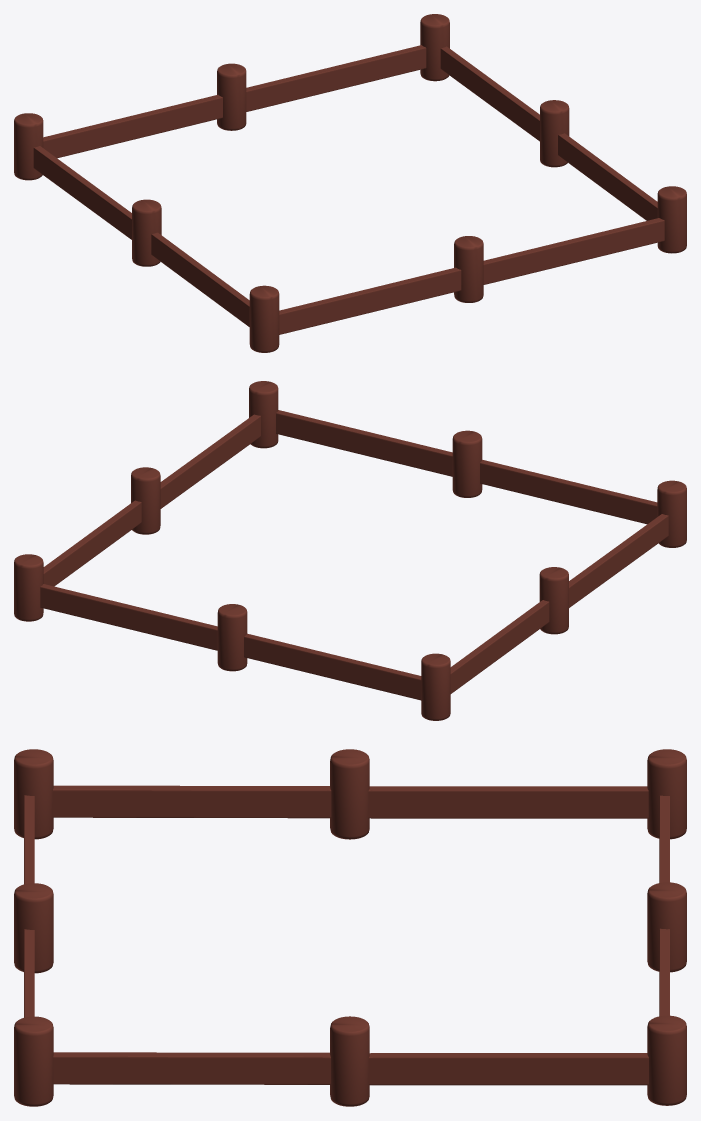
File: Fence.fbx
3 renders of one model, top to bottom at view 1: azimuth 30°, elevation 25°; view 2: azimuth 150°, elevation 25°; view 3: azimuth 270°, elevation 25°, orthographic. The views are drawn at different scales.
Visible parts, largest first — view 1: Fence; view 2: Fence; view 3: Fence.
Part boxes in pixels (box(x1,y1,x2,y2)): Fence: box(14, 14, 686, 352); Fence: box(14, 381, 686, 720); Fence: box(14, 749, 686, 1106).
Size of the model in its own units: 10.62 by 10.64 by 1.31.
